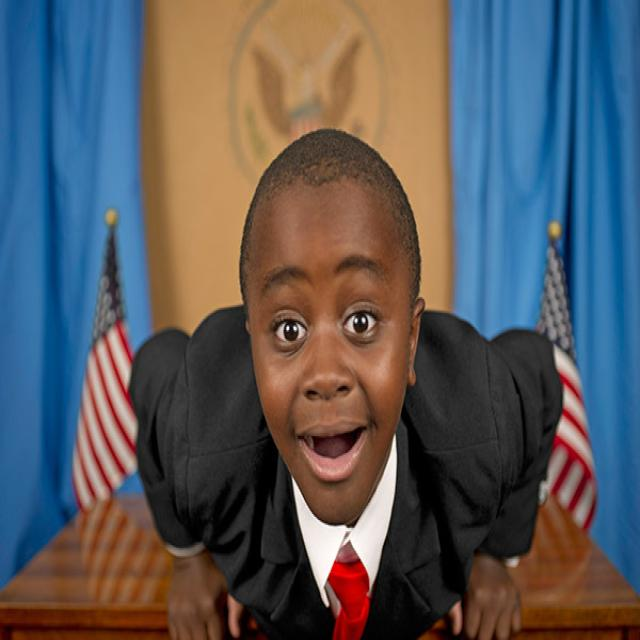child: (126, 123, 564, 634)
